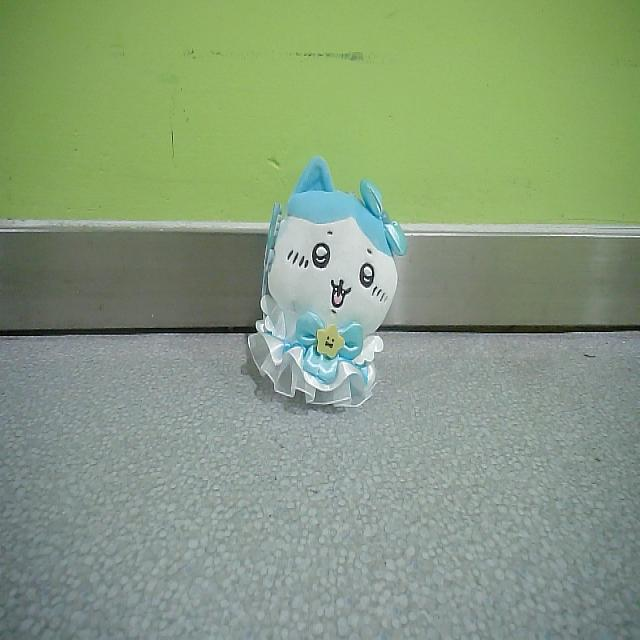xiaoba: (244, 154, 404, 418)
